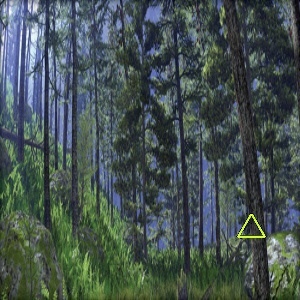triangle: (232, 210, 268, 240)
